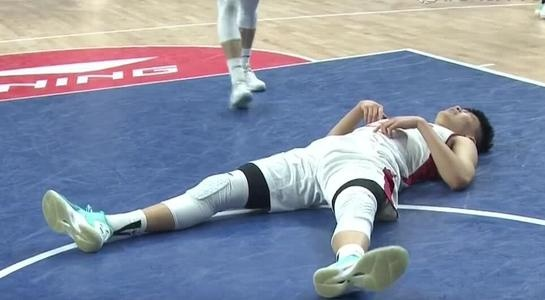falling: (34, 93, 501, 293)
